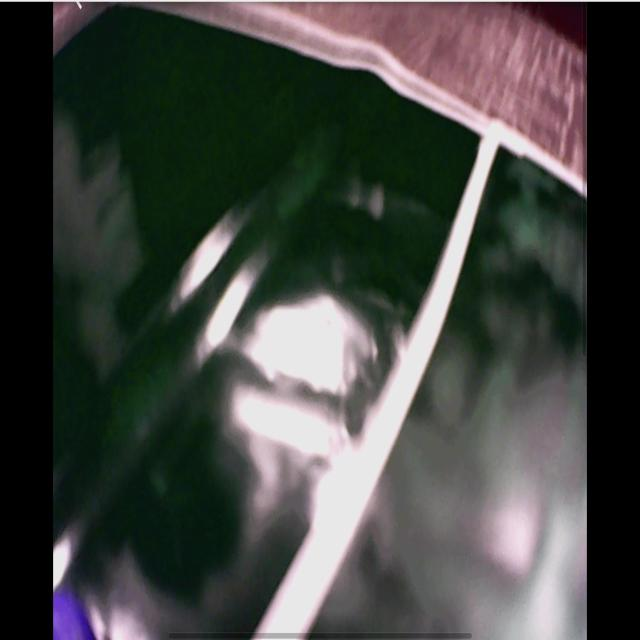ball: (55, 590, 96, 640)
